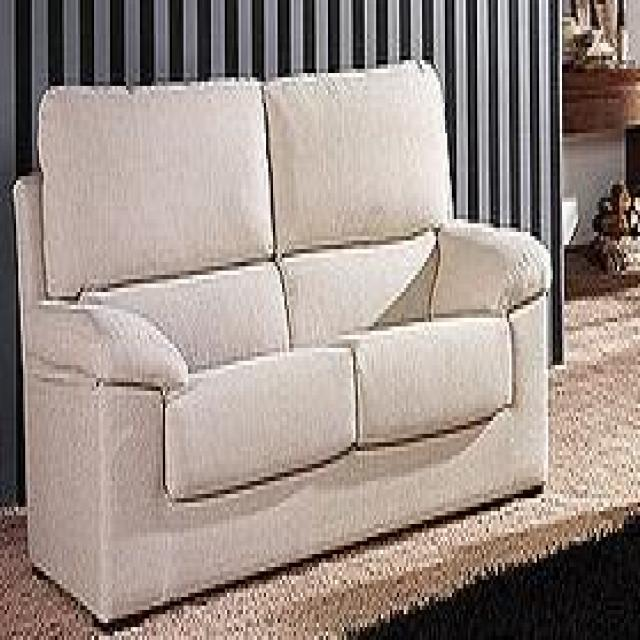sofa: (14, 54, 555, 630)
